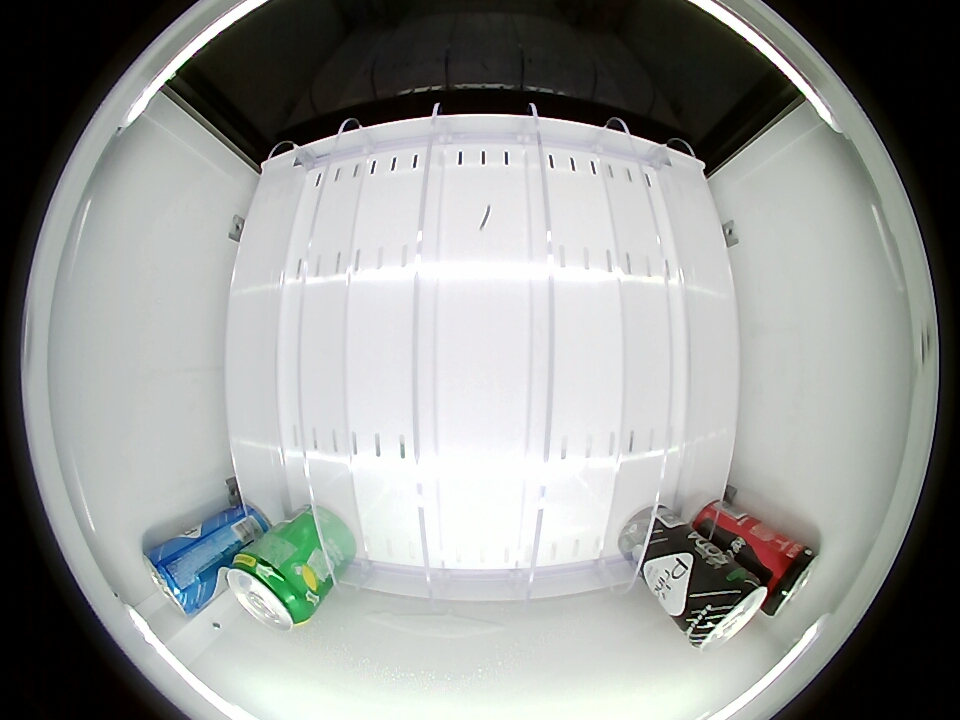lingdukele: (761, 538, 819, 617)
qingdaowangzi-1: (681, 566, 769, 651)
qingdaowangzi-2: (142, 540, 217, 615)
xuebi2: (225, 549, 317, 631)
